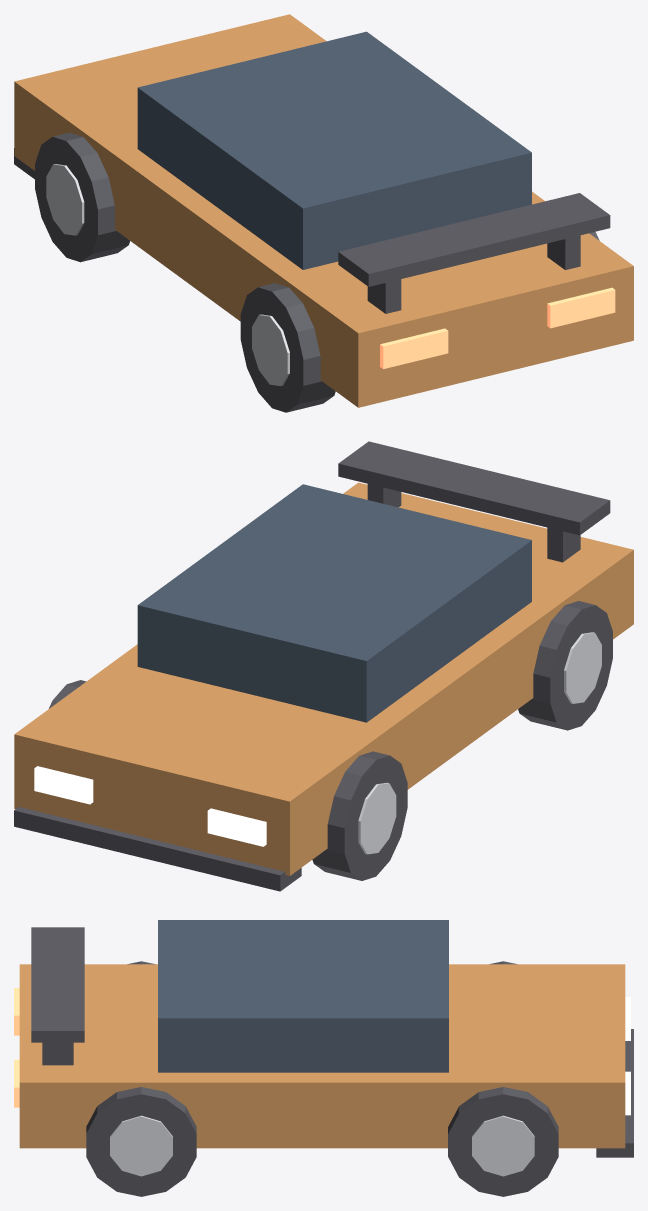
Rendered from sports_car.glb.
3 renders of one model, top to bottom at view 1: azimuth 30°, elevation 25°; view 2: azimuth 150°, elevation 25°; view 3: azimuth 270°, elevation 25°, orthographic. The views are drawn at different scales.
Size of the model in its own units: 2.03 by 1.13 by 3.94.
